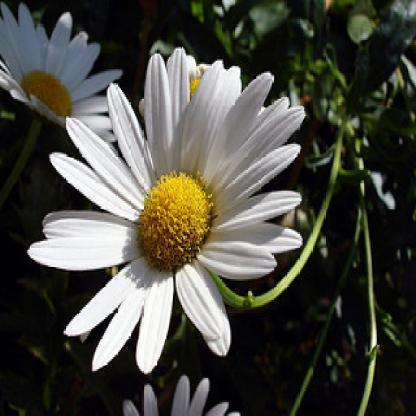ASTER: (16, 36, 304, 374)
